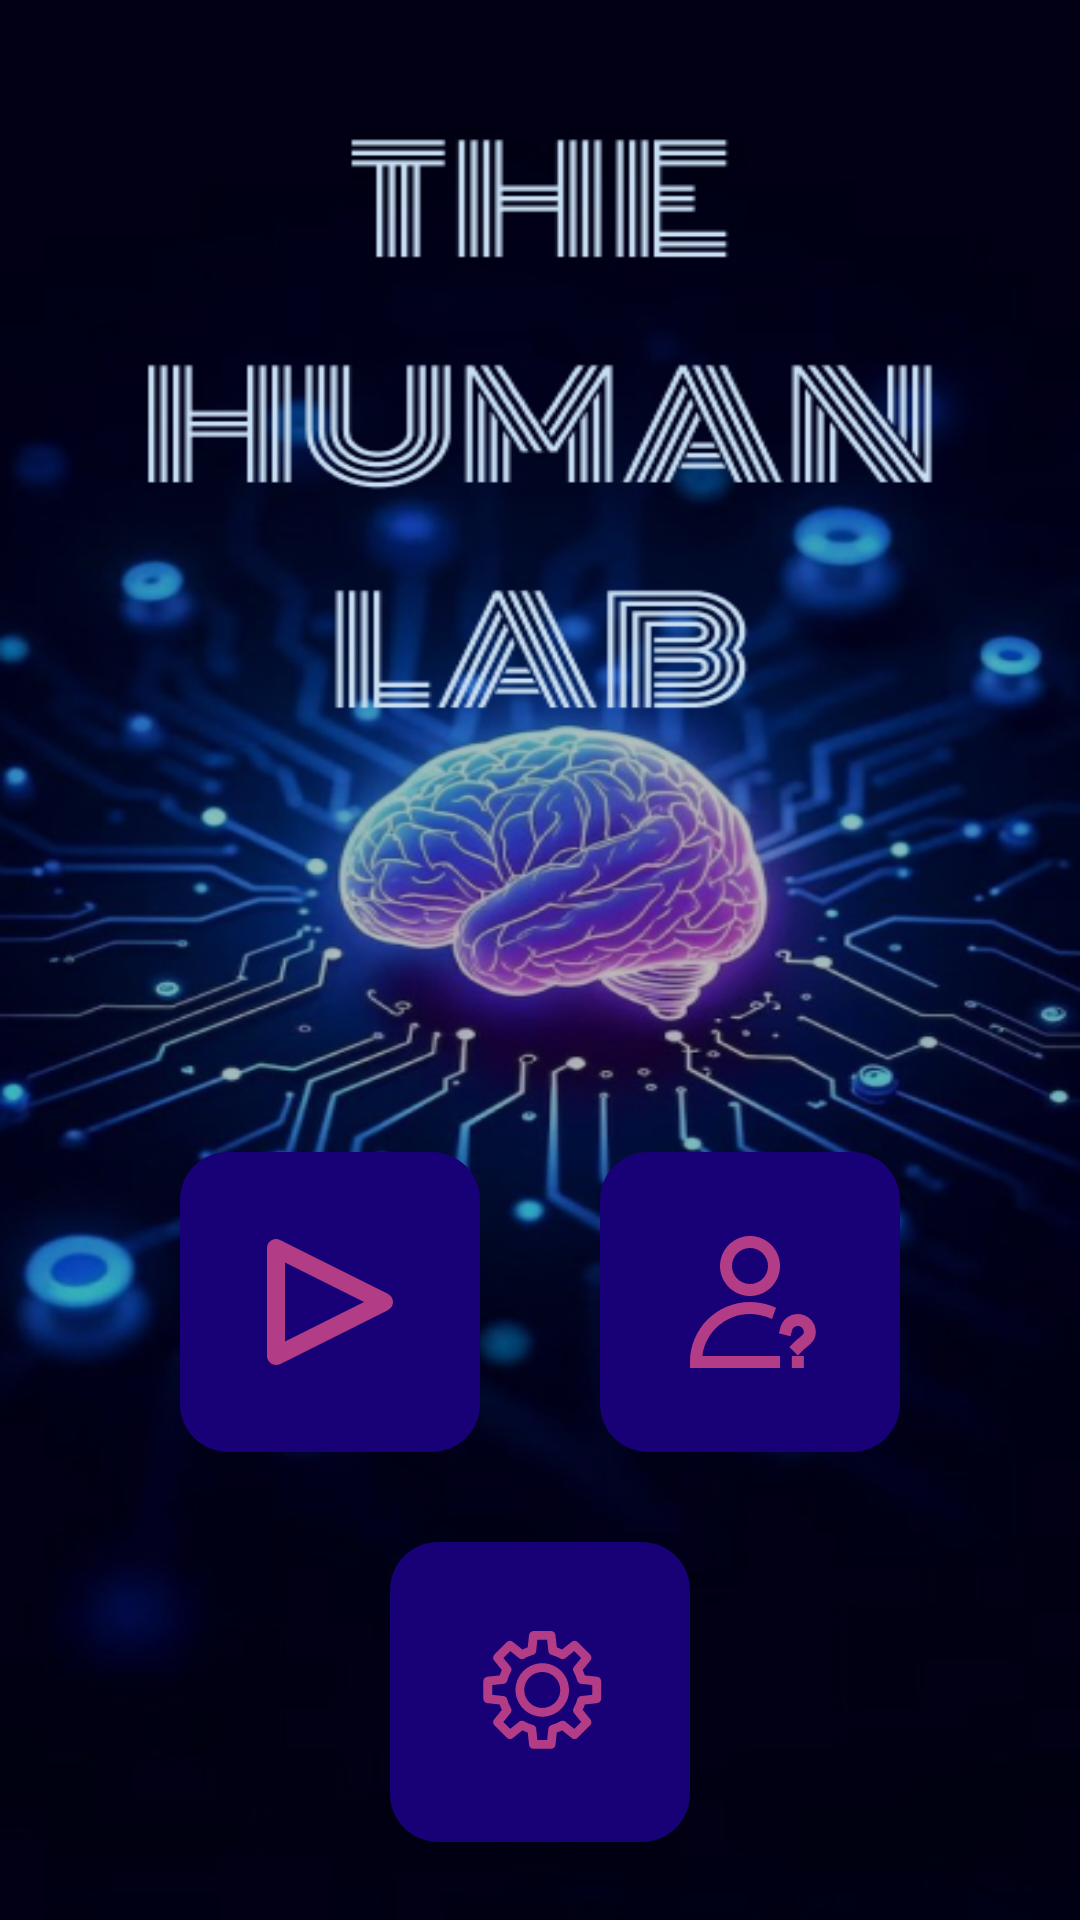

Locate icon controls on the screen. Image size 1080×1920, boxes as (x1, y1, x2, y2).
play: (180, 1152, 480, 1452)
question: (600, 1152, 900, 1452)
settings: (390, 1542, 690, 1842)
